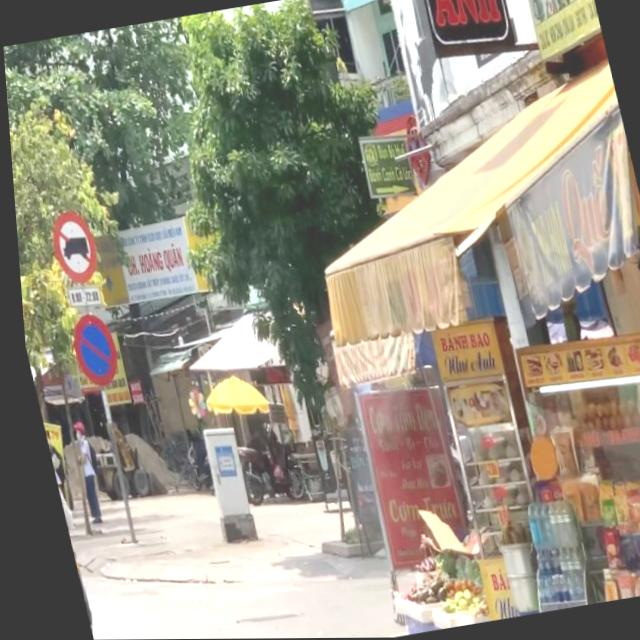Cam do xe: (61, 311, 120, 389)
Cam xe tai: (44, 208, 99, 286)
